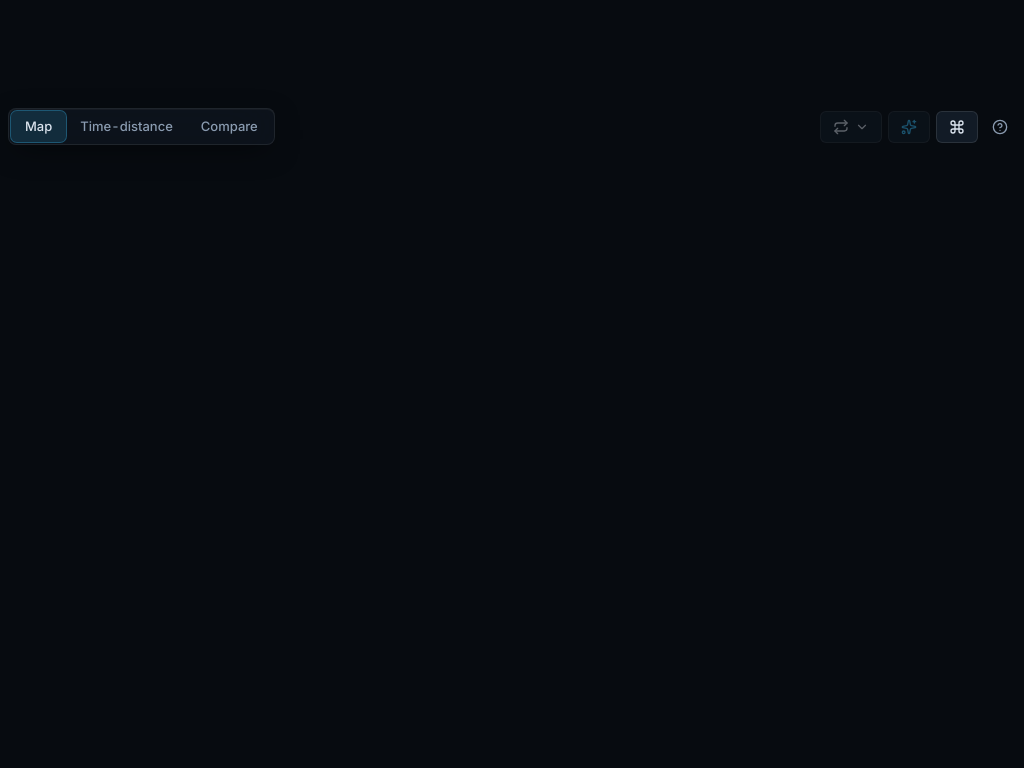
Test: tabs › keeps the map mounted but hidden on the other tabs
The width and height of the screenshot is (1024, 768).
What coordinates should you click on to do the following:
click the tab "Compare"
I would click on:
 (229, 126)
Its box is [187,111,272,142].
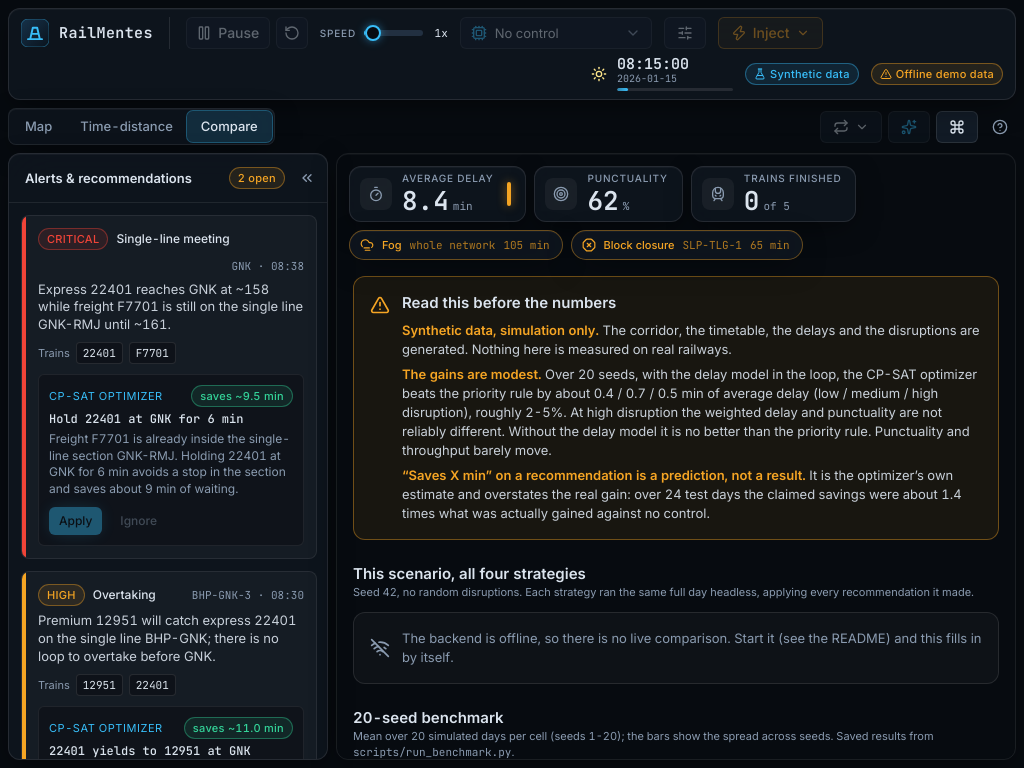
Expected: the element named "Strategy comparison" is shown, [337,260,1015,759]
